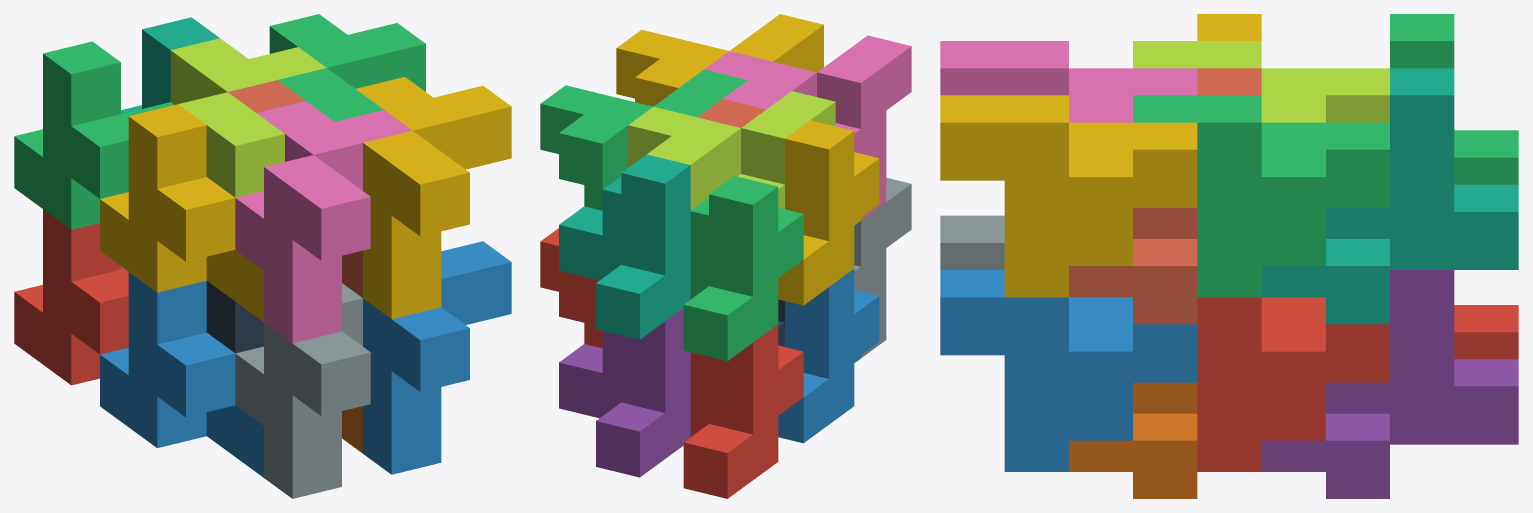
File: tiling.obj
3 views of the same model, side by side, from view 1: azimuth 30°, elevation 25°; view 2: azimuth 150°, elevation 25°; view 3: azimuth 270°, elevation 25° (orthographic). The views are drawn at different scales.
Parts seen in each view (by area): view 1: copy_2_domain_4, copy_2_domain_8, copy_1_domain_4, copy_2_domain_6, copy_1_domain_2, copy_2_domain_2, copy_1_domain_3, copy_1_domain_1, copy_2_domain_3, copy_2_domain_7, copy_1_domain_7, copy_2_domain_1 (+2 smaller); view 2: copy_1_domain_7, copy_1_domain_3, copy_1_domain_5, copy_1_domain_1, copy_1_domain_4, copy_2_domain_4, copy_2_domain_3, copy_1_domain_2, copy_2_domain_7, copy_2_domain_8, copy_2_domain_2, copy_2_domain_5 (+1 smaller); view 3: copy_2_domain_8, copy_2_domain_6, copy_2_domain_7, copy_1_domain_7, copy_1_domain_5, copy_2_domain_5, copy_2_domain_4, copy_1_domain_8, copy_2_domain_3, copy_1_domain_6, copy_1_domain_3, copy_1_domain_1 (+2 smaller).
Boxes of the visible parts, x1=… form: copy_2_domain_4: x1=235, y1=101, x2=412, y2=343; copy_2_domain_8: x1=356, y1=77, x2=511, y2=318; copy_1_domain_4: x1=100, y1=104, x2=263, y2=321; copy_2_domain_6: x1=363, y1=241, x2=511, y2=474; copy_1_domain_2: x1=100, y1=272, x2=263, y2=477; copy_2_domain_2: x1=235, y1=283, x2=370, y2=498; copy_1_domain_3: x1=14, y1=41, x2=173, y2=229; copy_1_domain_1: x1=14, y1=209, x2=128, y2=385; copy_2_domain_3: x1=170, y1=38, x2=326, y2=197; copy_2_domain_7: x1=269, y1=14, x2=425, y2=121; copy_1_domain_7: x1=121, y1=17, x2=219, y2=113; copy_2_domain_1: x1=206, y1=281, x2=263, y2=353; copy_1_domain_7: x1=559, y1=154, x2=690, y2=339; copy_1_domain_3: x1=683, y1=176, x2=803, y2=361; copy_1_domain_5: x1=559, y1=308, x2=690, y2=477; copy_1_domain_1: x1=683, y1=324, x2=803, y2=498; copy_1_domain_4: x1=778, y1=120, x2=879, y2=305; copy_2_domain_4: x1=704, y1=35, x2=911, y2=220; copy_2_domain_3: x1=628, y1=91, x2=835, y2=210; copy_1_domain_2: x1=778, y1=269, x2=879, y2=443; copy_2_domain_7: x1=540, y1=69, x2=747, y2=210; copy_2_domain_8: x1=616, y1=14, x2=823, y2=106; copy_2_domain_2: x1=854, y1=177, x2=911, y2=357; copy_2_domain_5: x1=540, y1=228, x2=602, y2=348; copy_2_domain_8: x1=940, y1=95, x2=1197, y2=297; copy_2_domain_6: x1=940, y1=270, x2=1197, y2=471; copy_2_domain_7: x1=1133, y1=95, x2=1389, y2=297; copy_1_domain_7: x1=1261, y1=68, x2=1518, y2=324; copy_1_domain_5: x1=1261, y1=270, x2=1518, y2=498; copy_2_domain_5: x1=1197, y1=297, x2=1389, y2=471; copy_2_domain_4: x1=940, y1=41, x2=1197, y2=122; copy_1_domain_8: x1=1069, y1=68, x2=1261, y2=324; copy_2_domain_3: x1=1133, y1=41, x2=1389, y2=122; copy_1_domain_6: x1=1069, y1=382, x2=1197, y2=498; copy_1_domain_3: x1=1390, y1=14, x2=1518, y2=184; copy_1_domain_1: x1=1454, y1=305, x2=1518, y2=359.
Bounding box in the file's own units: 6 × 6 × 9.
